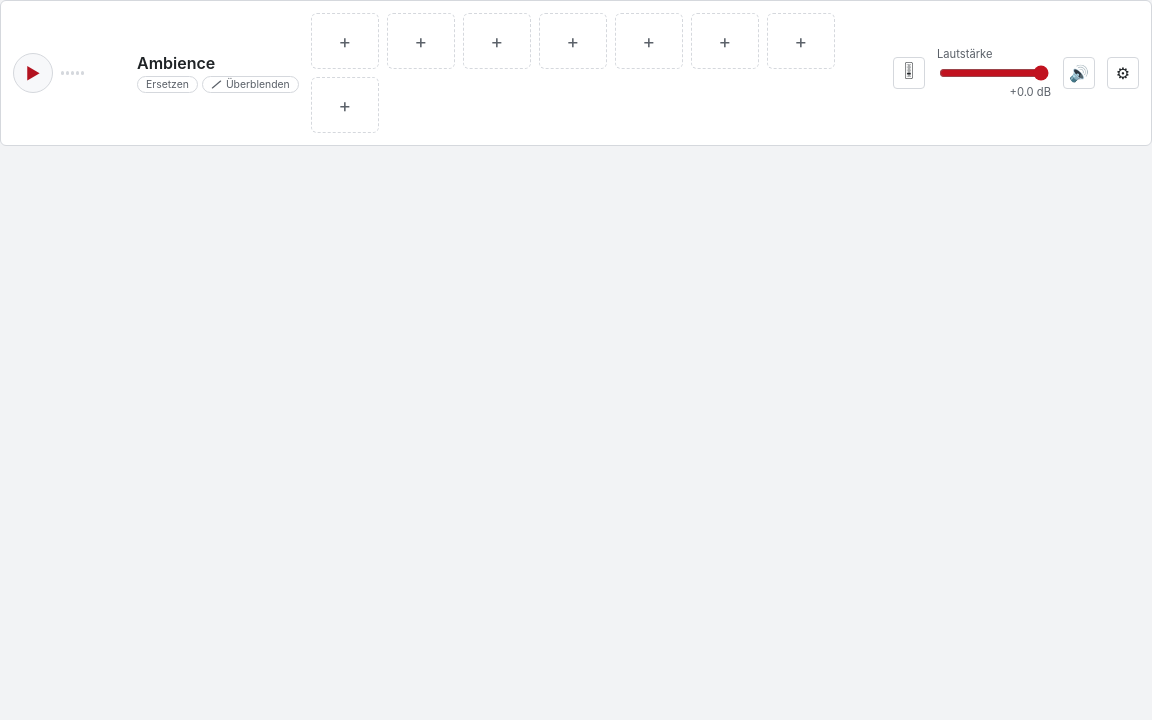
Test: M15-S14 ChannelRow › mode + transition config popover › shows a channel-name input pre-filled with the current name
Click the button named "Kanaleinstellungen" at (1123, 73), box [1107,57,1139,89]
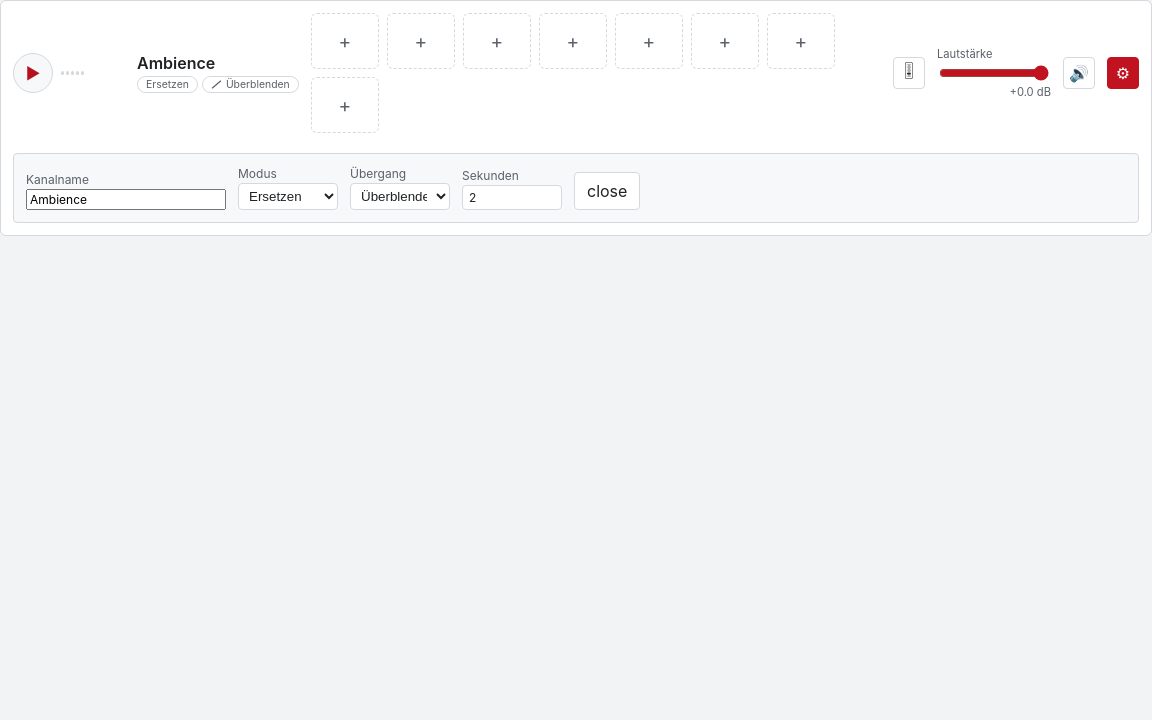
Result: the field labelled "Kanalname" holds "Ambience" at [26,189,226,210]
